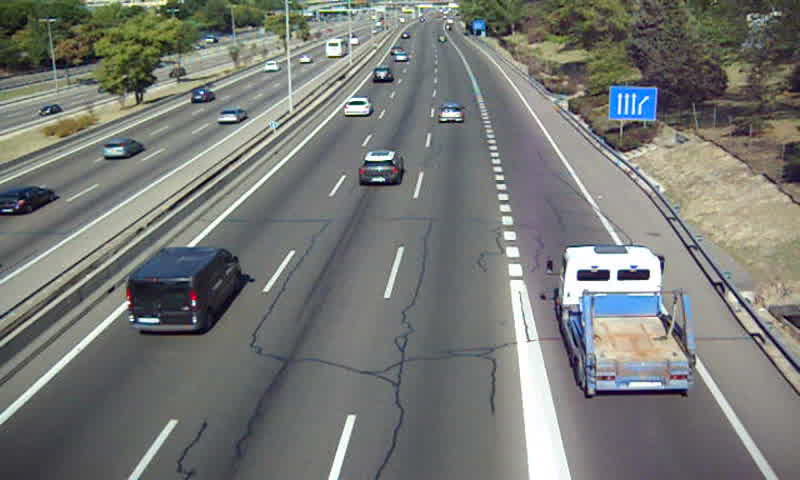car: (358, 150, 404, 185), (341, 98, 372, 117), (438, 103, 465, 124), (370, 67, 393, 84), (392, 52, 410, 64)
small-truck: (559, 246, 693, 398)
van: (127, 247, 242, 333)
